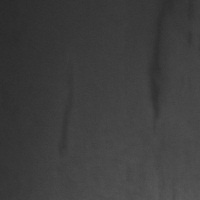inclusion: (143, 5, 170, 131), (51, 82, 78, 160)
